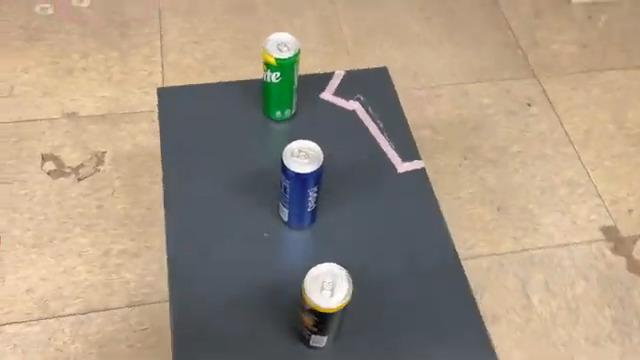OranSoda: (292, 258, 356, 352)
Pepsi: (274, 135, 328, 235)
Sprite: (258, 30, 302, 126)
